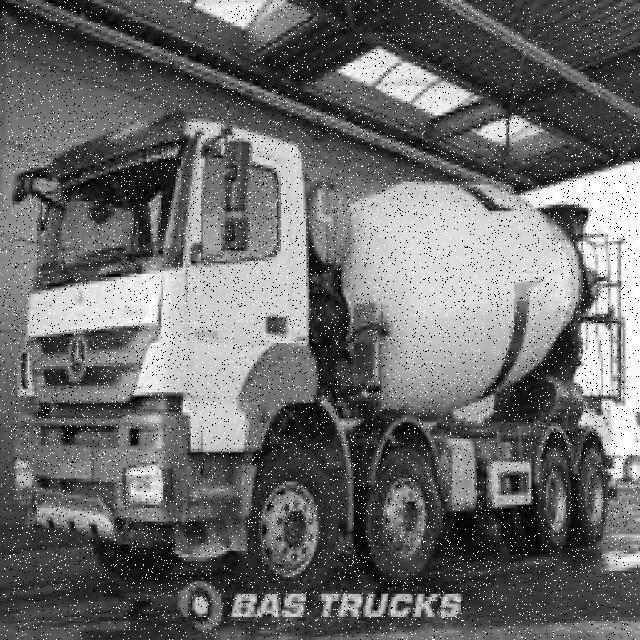Concrete Mixer: (13, 113, 629, 596)
